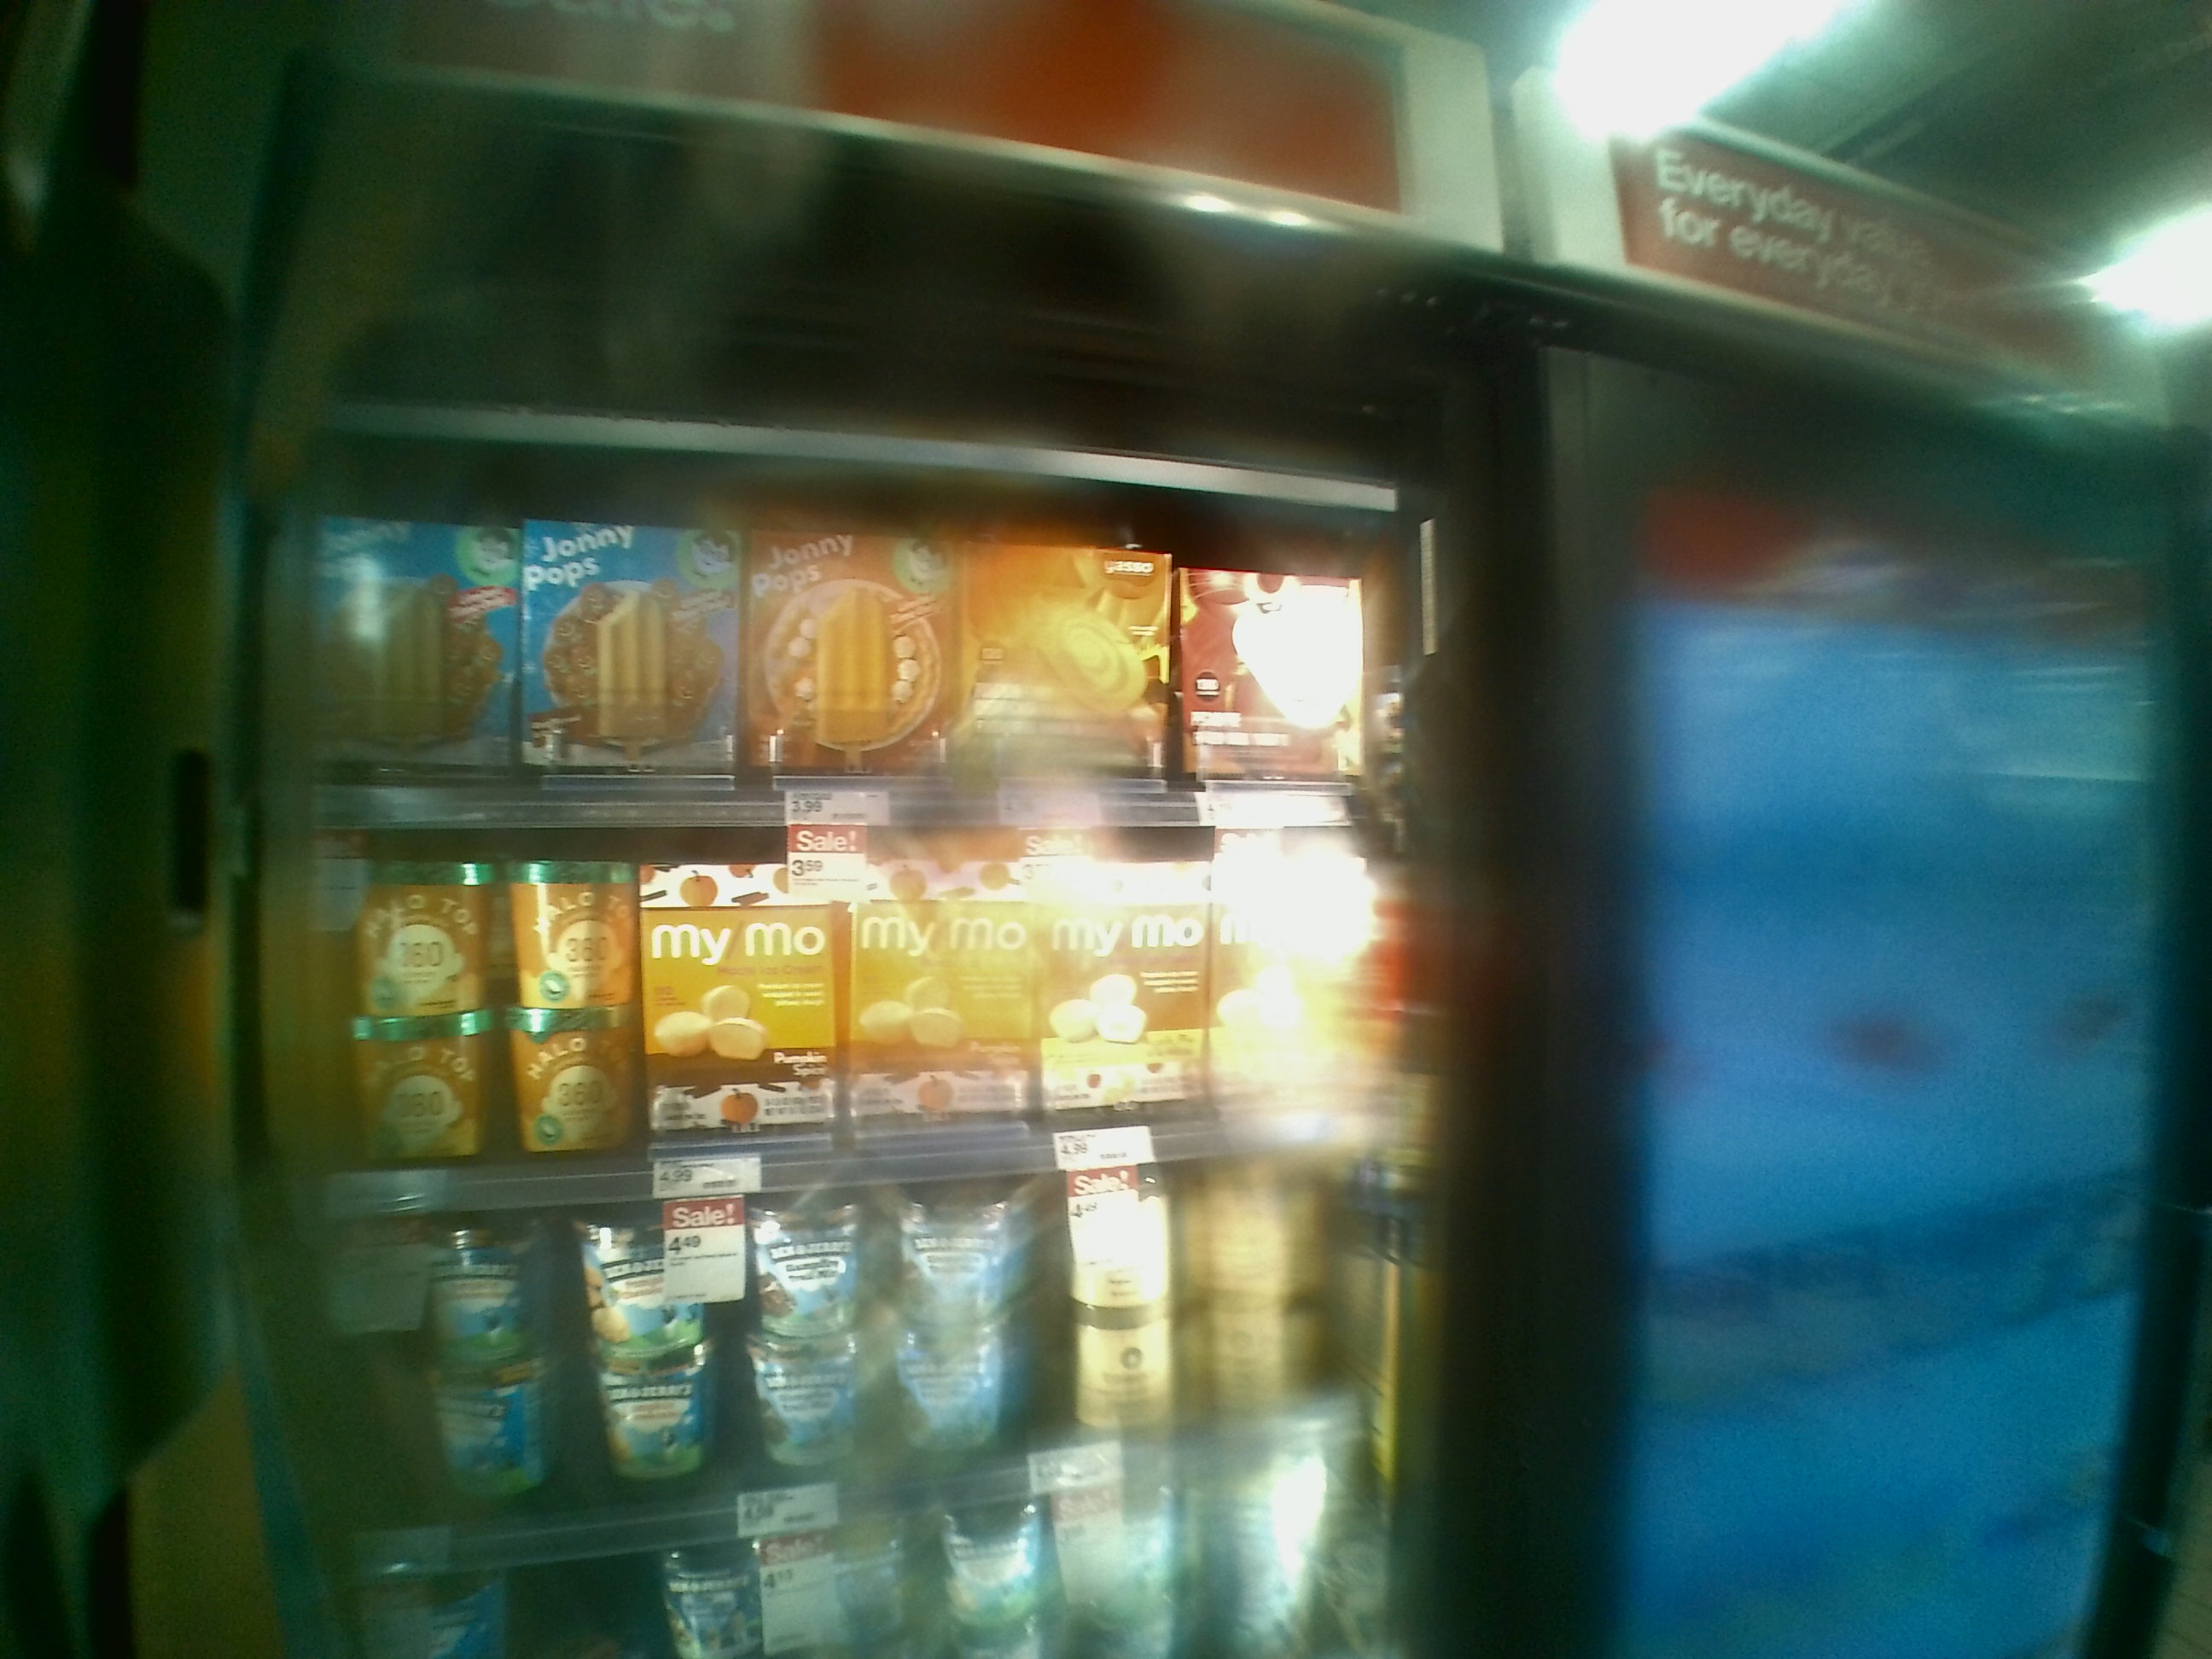shelf: (239, 415, 1432, 833), (233, 796, 1426, 1169)
